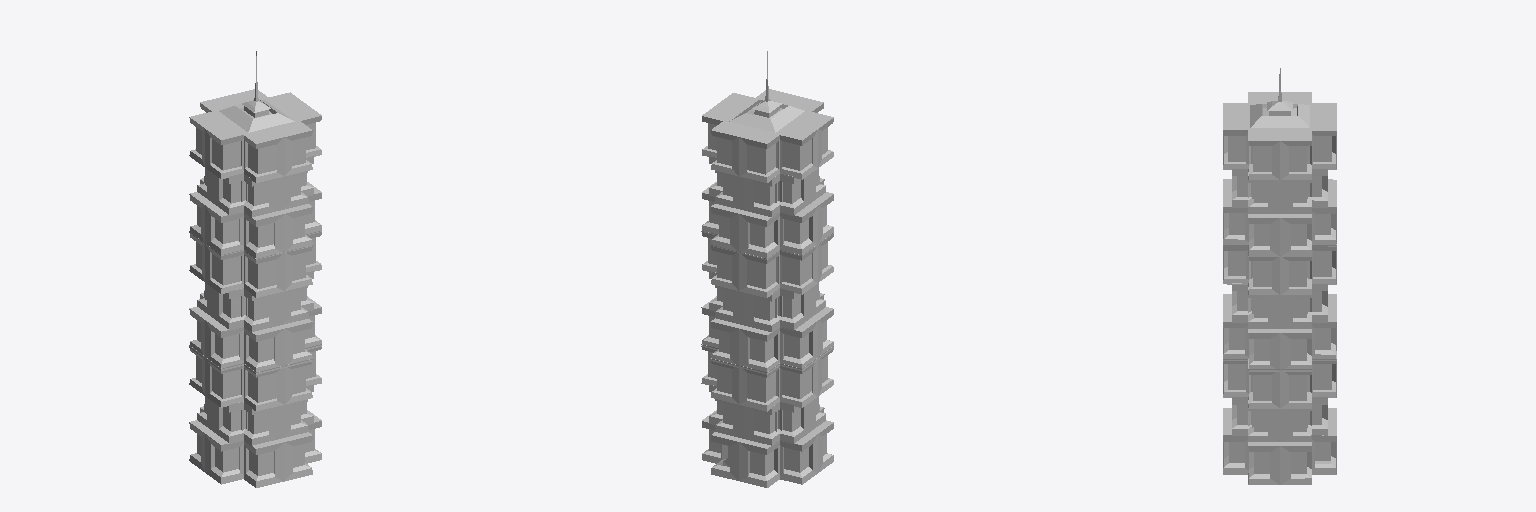
Rendered from building6.obj.
3 renders of one model, left to right at view 1: azimuth 30°, elevation 25°; view 2: azimuth 150°, elevation 25°; view 3: azimuth 270°, elevation 25°, orthographic.
Visible parts, largest first — view 1: Downtown_Center_City.006_Downtown_Center_City.013; view 2: Downtown_Center_City.006_Downtown_Center_City.013; view 3: Downtown_Center_City.006_Downtown_Center_City.013.
Boxes of the visible parts, x1=… form: Downtown_Center_City.006_Downtown_Center_City.013: x1=189, y1=51, x2=321, y2=487; Downtown_Center_City.006_Downtown_Center_City.013: x1=701, y1=51, x2=833, y2=487; Downtown_Center_City.006_Downtown_Center_City.013: x1=1223, y1=68, x2=1336, y2=484.
Size of the model in its own units: 9.75 by 37.75 by 9.53.